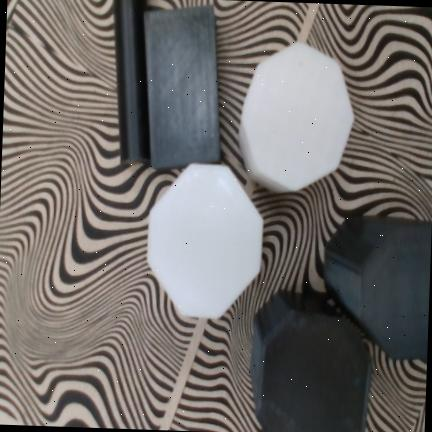Cilindro: (113, 0, 151, 166)
Paralelepipedo: (144, 5, 221, 169)
Prisma_hexagonal: (147, 163, 264, 319), (238, 41, 355, 192), (252, 290, 370, 432), (324, 217, 431, 358)
